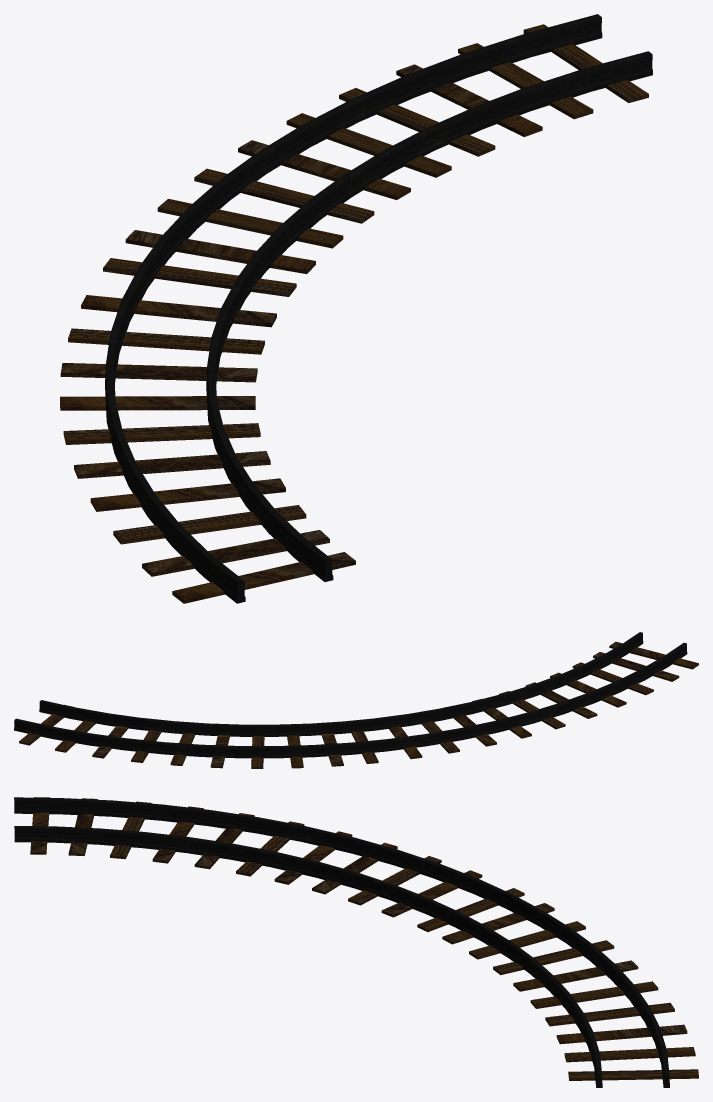
File: track twist.fbx
3 views of the same model, one above another, from view 1: azimuth 30°, elevation 25°; view 2: azimuth 150°, elevation 25°; view 3: azimuth 270°, elevation 25° (orthographic). The views are drawn at different scales.
Visible parts, largest first — view 1: polySurface90; view 2: polySurface90; view 3: polySurface90.
Boxes of the visible parts, <box> form: polySurface90: <box>60,14,652,603</box>; polySurface90: <box>14,632,698,768</box>; polySurface90: <box>14,797,698,1087</box>.
Size of the model in its own units: 36.51 by 0.8958 by 36.54.
1 material, 1 textured.
